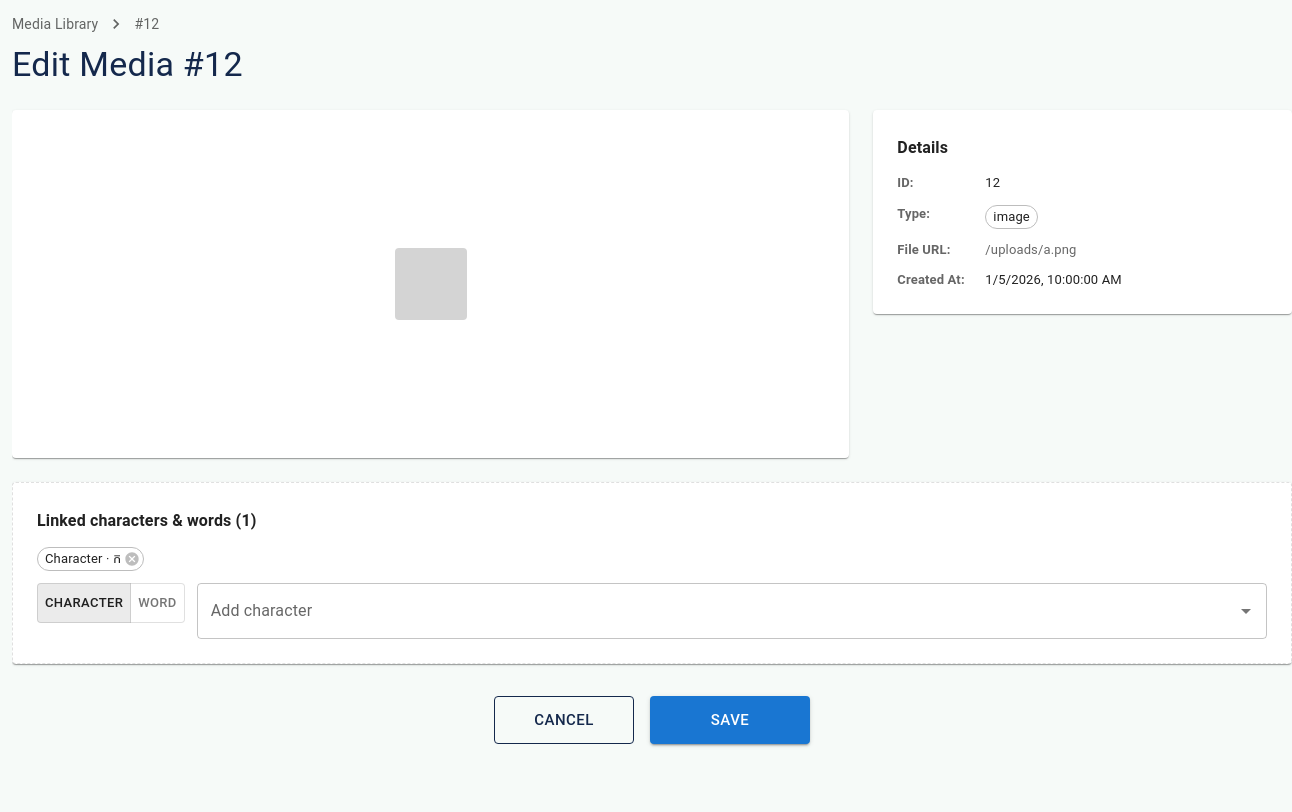
Scenario: MediaEditPage › does not offer something that is already linked
The image size is (1292, 812).
Expected: the heading "Linked characters & words (1)" is shown, x1=37 y1=511 x2=256 y2=530
Click the dropdown labelled "Add character".
click(717, 611)  # box x1=206 y1=592 x2=1228 y2=630
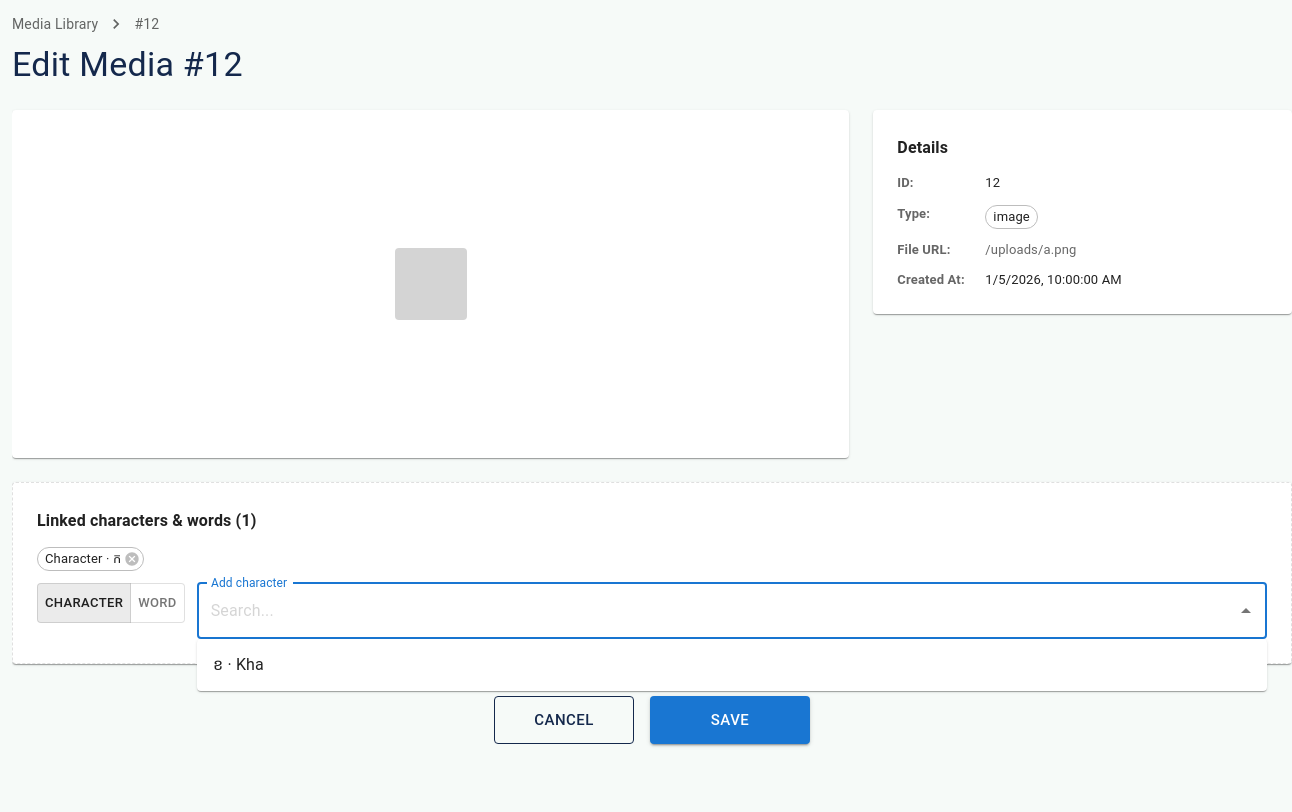
Result: the option "ខ · Kha" is shown at x1=213 y1=655 x2=264 y2=674
